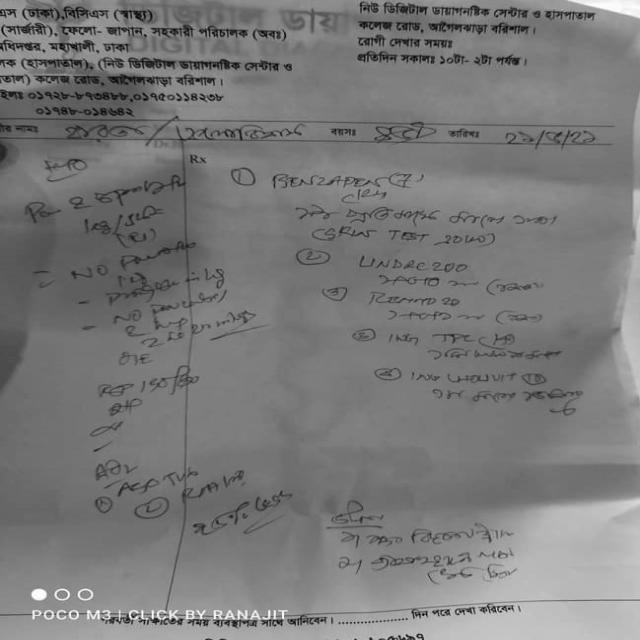medicine: (268, 168, 392, 190), (350, 287, 442, 314), (359, 249, 432, 274), (423, 327, 483, 348), (442, 371, 516, 386)
